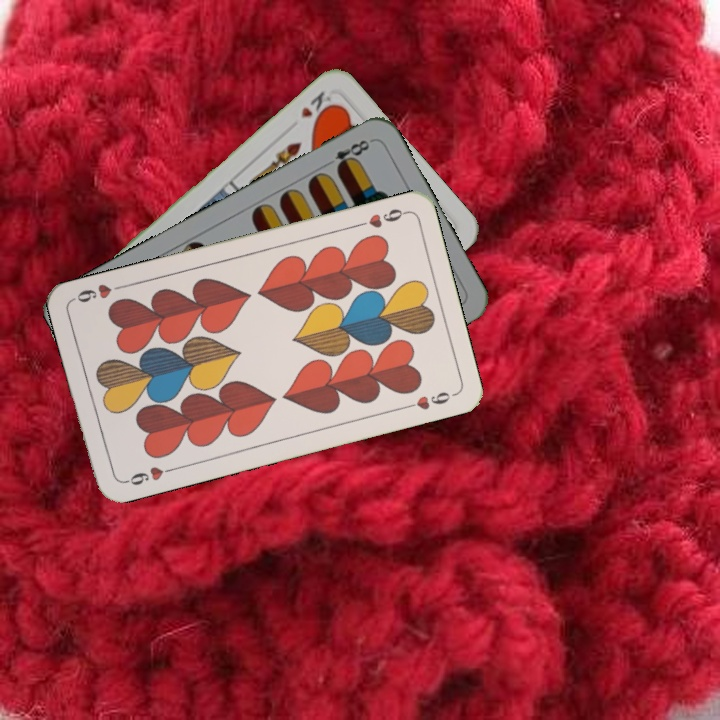E8: (320, 135, 375, 174)
H9: (351, 204, 410, 231), (119, 462, 177, 488)
HK: (296, 87, 337, 125)
